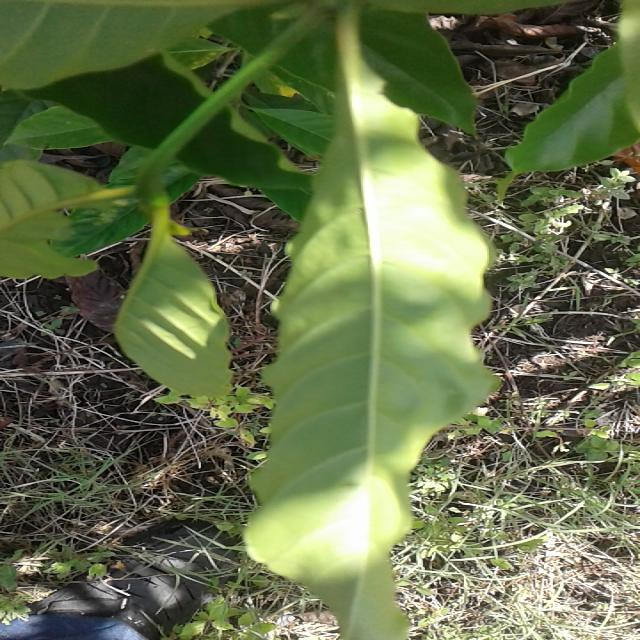Sanas: (248, 6, 494, 586)
